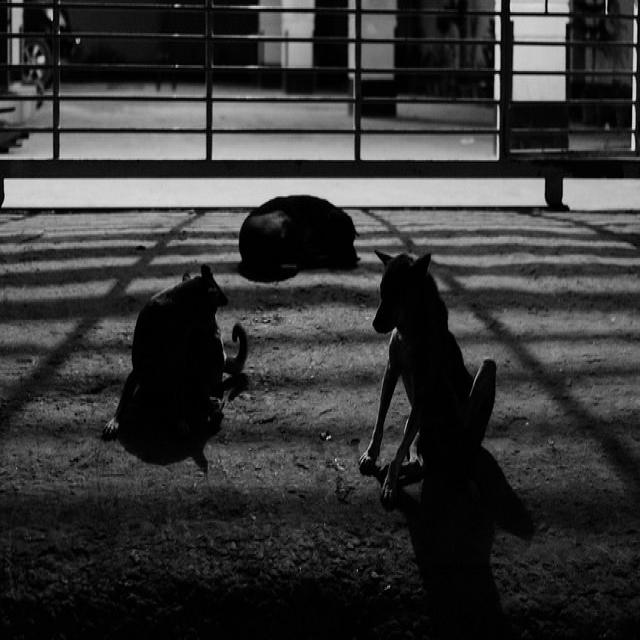Dog: (366, 236, 505, 513), (114, 258, 255, 434), (226, 201, 354, 304)
